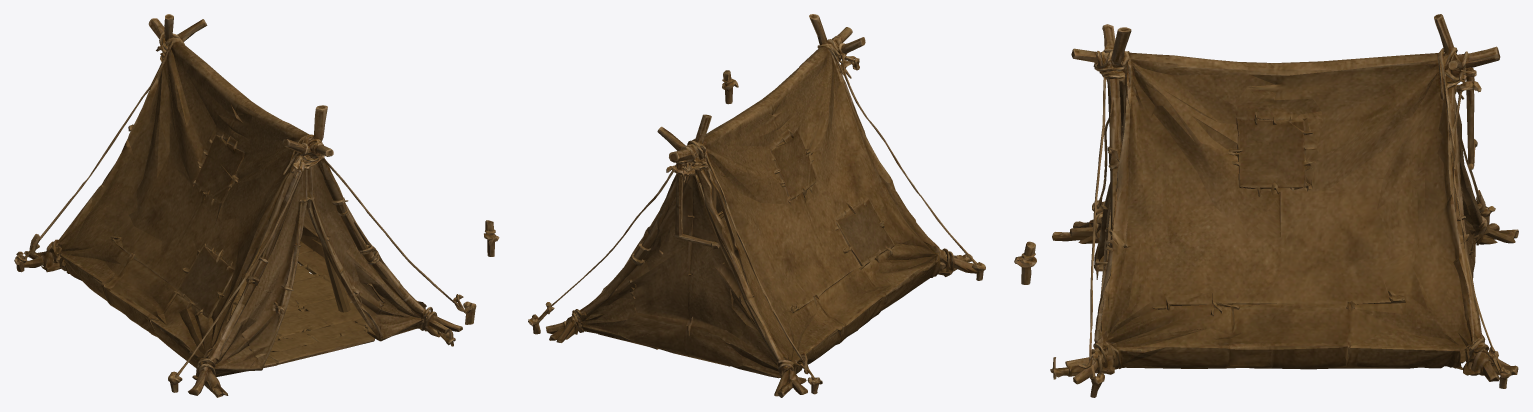
The model's file is camp_tent.glb.
3 views of the same model, side by side, from view 1: azimuth 30°, elevation 25°; view 2: azimuth 150°, elevation 25°; view 3: azimuth 270°, elevation 25° (orthographic). The views are drawn at different scales.
Bounding box in the file's own units: 1.6 × 1.21 × 1.9.
Materials: 1 (1 with a texture image).
